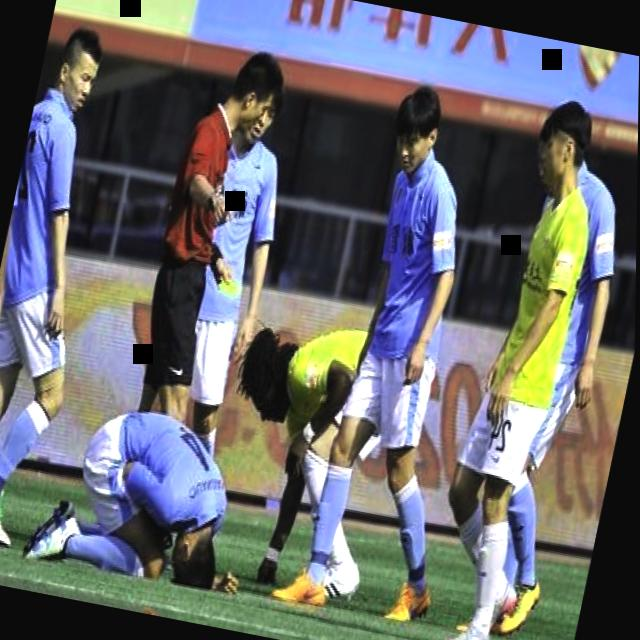Fall-Detected: (22, 390, 270, 610)
